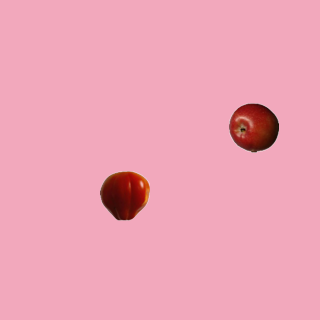Apple Braeburn: (228, 102, 278, 152)
Tomato 1: (99, 170, 149, 220)
